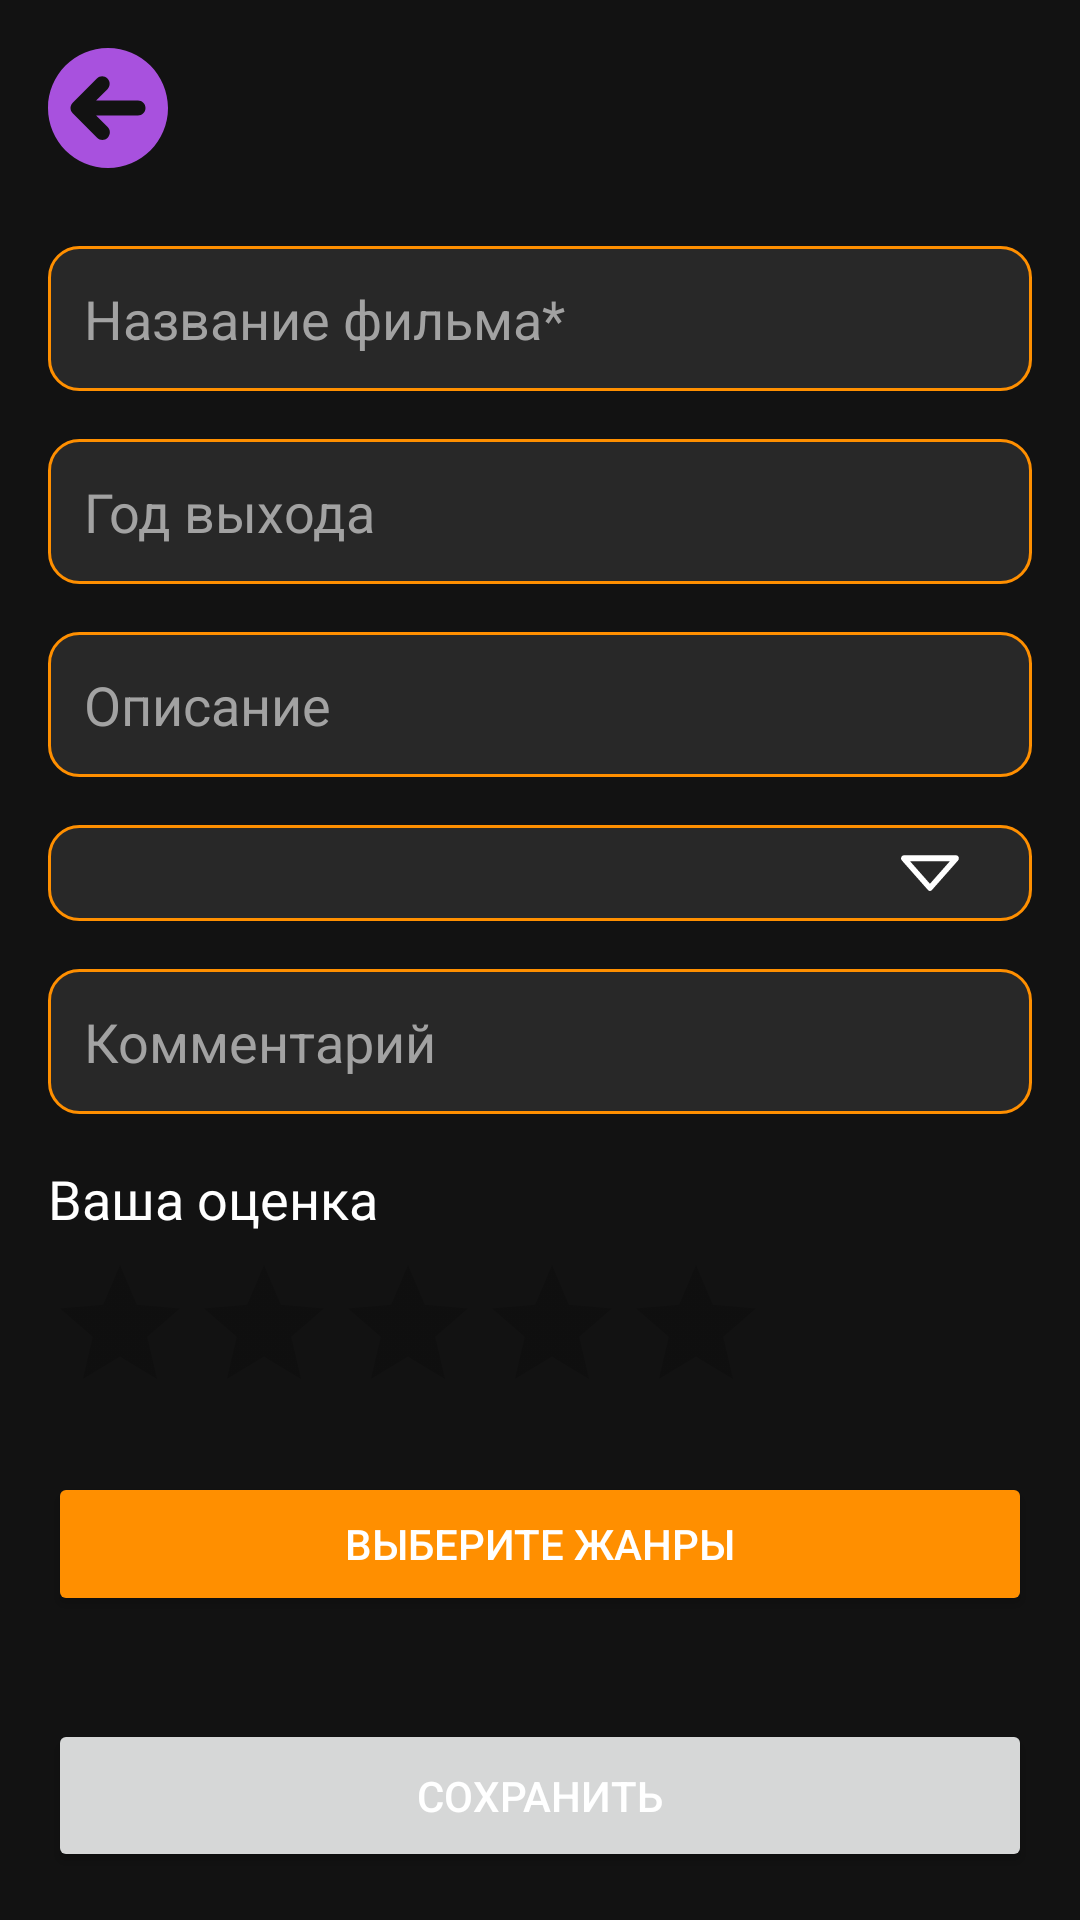

Icons on this 1080*1920 Android screen, each with the point to tap as (x,y):
Назад: (108,108)
